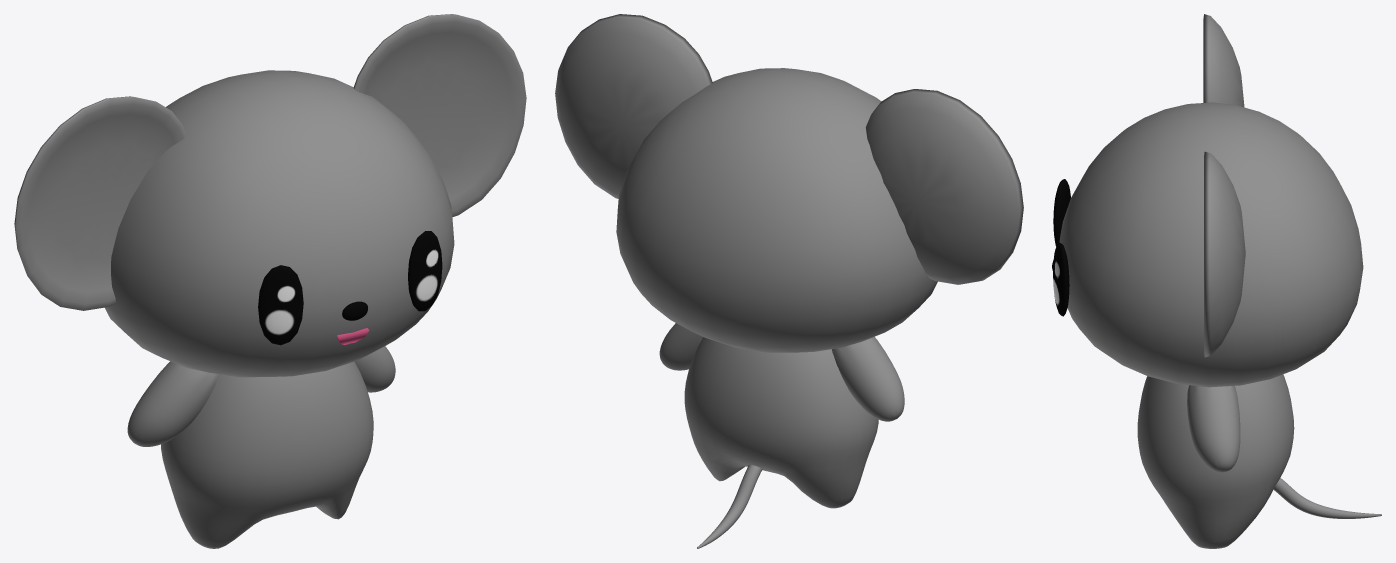
The picture shows the model from 3 angles, left to right: view 1: azimuth 30°, elevation 25°; view 2: azimuth 150°, elevation 25°; view 3: azimuth 270°, elevation 25°; orthographic projection. The views are drawn at different scales.
Parts seen in each view (by area): view 1: 脑袋, 身体, 耳朵.001, 耳朵, 手臂.001, eye.001, eye, 手臂; view 2: 脑袋, 身体, 耳朵.001, 耳朵, 手臂.001, 手臂, 尾巴; view 3: 脑袋, 身体, 耳朵, 手臂, 耳朵.001, 尾巴, eye, eye.001.
Part boxes in pixels (x1=…): 脑袋: x1=105, y1=70, x2=454, y2=377; 身体: x1=161, y1=361, x2=373, y2=548; 耳朵.001: x1=14, y1=96, x2=186, y2=310; 耳朵: x1=353, y1=14, x2=526, y2=217; 手臂.001: x1=127, y1=361, x2=219, y2=446; eye.001: x1=258, y1=265, x2=303, y2=345; eye: x1=408, y1=231, x2=442, y2=311; 手臂: x1=354, y1=346, x2=395, y2=392; 脑袋: x1=616, y1=68, x2=937, y2=352; 身体: x1=684, y1=337, x2=878, y2=508; 耳朵.001: x1=865, y1=89, x2=1023, y2=284; 耳朵: x1=555, y1=14, x2=712, y2=198; 手臂.001: x1=832, y1=337, x2=904, y2=421; 手臂: x1=659, y1=323, x2=702, y2=370; 尾巴: x1=697, y1=464, x2=762, y2=548; 脑袋: x1=1059, y1=102, x2=1363, y2=387; 身体: x1=1137, y1=374, x2=1294, y2=548; 耳朵: x1=1204, y1=151, x2=1245, y2=357; 手臂: x1=1187, y1=385, x2=1240, y2=472; 耳朵.001: x1=1203, y1=14, x2=1244, y2=107; 尾巴: x1=1273, y1=478, x2=1381, y2=518; eye: x1=1053, y1=242, x2=1069, y2=316; eye.001: x1=1053, y1=179, x2=1070, y2=246.
Size of the model in its own units: 122 by 108 by 75.5.
4 materials, 1 textured.
